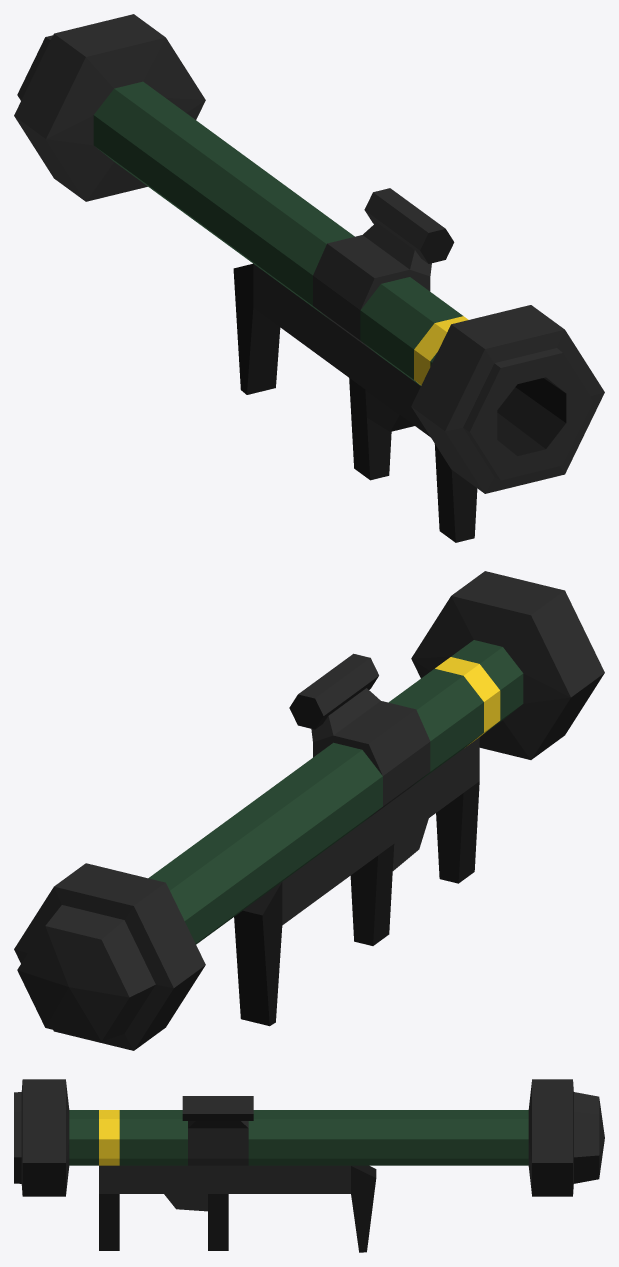
Rendered from weapons_rocket-launcher.fbx.
3 renders of one model, top to bottom at view 1: azimuth 30°, elevation 25°; view 2: azimuth 150°, elevation 25°; view 3: azimuth 270°, elevation 25°, orthographic. The views are drawn at different scales.
Visible parts, largest first — view 1: weapons_rocket_launcher; view 2: weapons_rocket_launcher; view 3: weapons_rocket_launcher.
Boxes of the visible parts, x1=… form: weapons_rocket_launcher: x1=14, y1=14, x2=604, y2=542; weapons_rocket_launcher: x1=14, y1=571, x2=604, y2=1050; weapons_rocket_launcher: x1=14, y1=1079, x2=604, y2=1252.
Bounding box in the file's own units: 39.88 × 60.25 × 200.
